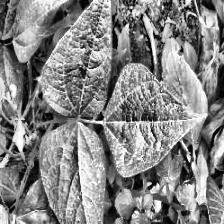Bean Rust: (103, 62, 214, 177), (40, 124, 107, 224)
